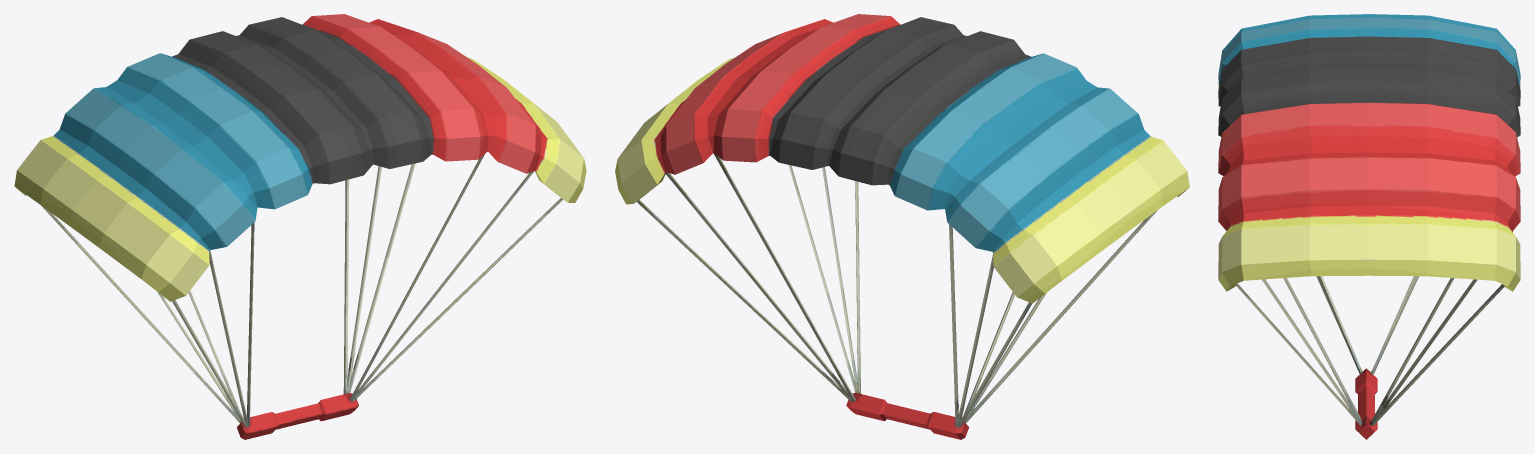
File: parachute.glb
The picture shows the model from 3 angles, left to right: view 1: azimuth 30°, elevation 25°; view 2: azimuth 150°, elevation 25°; view 3: azimuth 270°, elevation 25°; orthographic projection.
Parts seen in each view (by area): view 1: Parachute_mesh; view 2: Parachute_mesh; view 3: Parachute_mesh.
Boxes of the visible parts, <box> form: Parachute_mesh: <box>14,14,586,439</box>; Parachute_mesh: <box>615,14,1189,439</box>; Parachute_mesh: <box>1218,14,1520,439</box>.
Bounding box in the file's own units: 9.11 × 6.83 × 5.22.
Materials: 1 (1 with a texture image).
